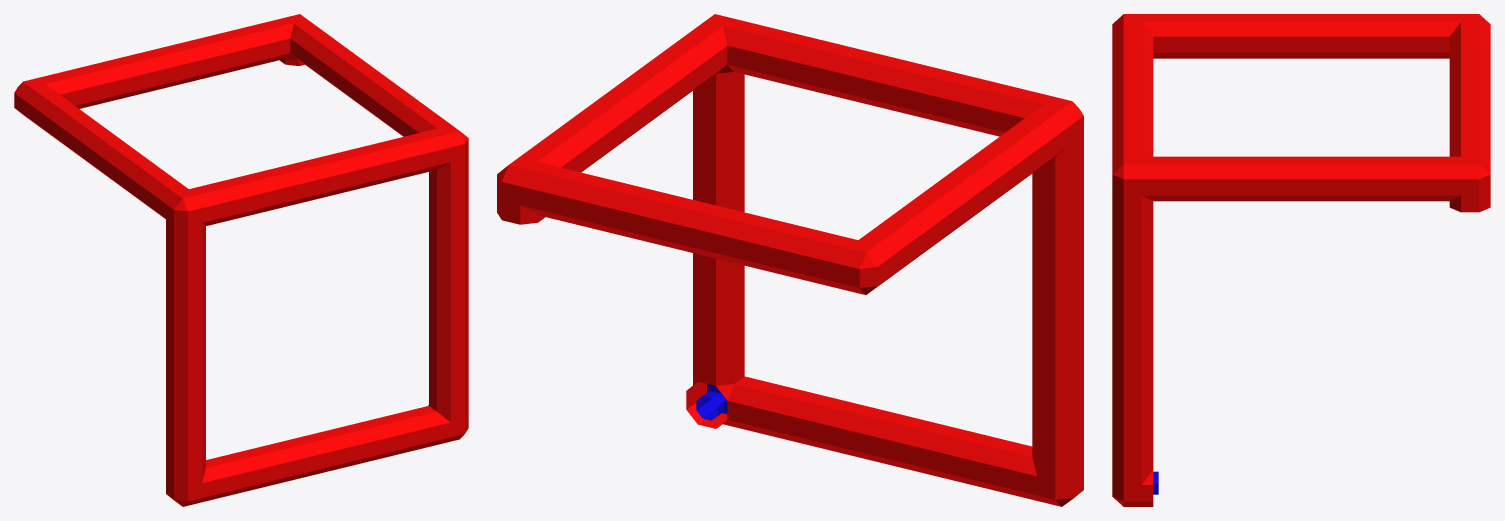
Rendered from frame-edge.glb.
3 renders of one model, left to right at view 1: azimuth 30°, elevation 25°; view 2: azimuth 150°, elevation 25°; view 3: azimuth 270°, elevation 25°, orthographic. The views are drawn at different scales.
Parts seen in each view (by area): view 1: フレーム１.001; view 2: フレーム１.001; view 3: フレーム１.001.
Part boxes in pixels (x1,y1,x2,y2): フレーム１.001: (14, 14, 468, 506); フレーム１.001: (497, 14, 1083, 506); フレーム１.001: (1112, 14, 1490, 506).
Bounding box in the file's own units: 1.16 × 1.16 × 1.16.
